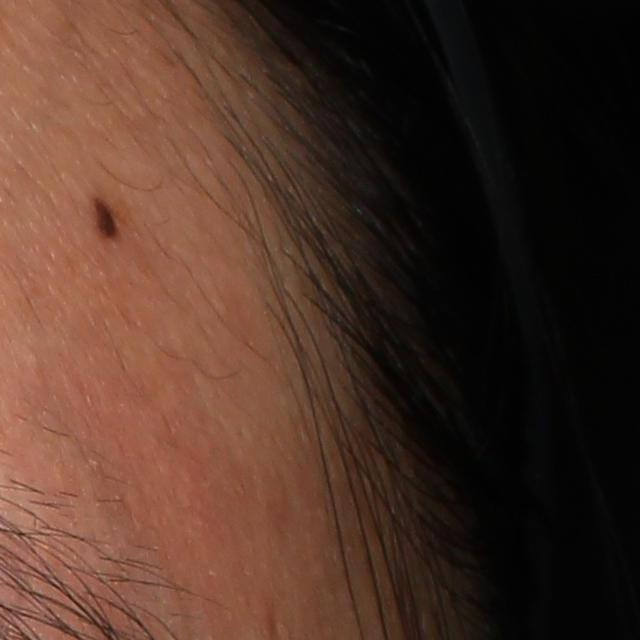nevus: (93, 194, 123, 242)
